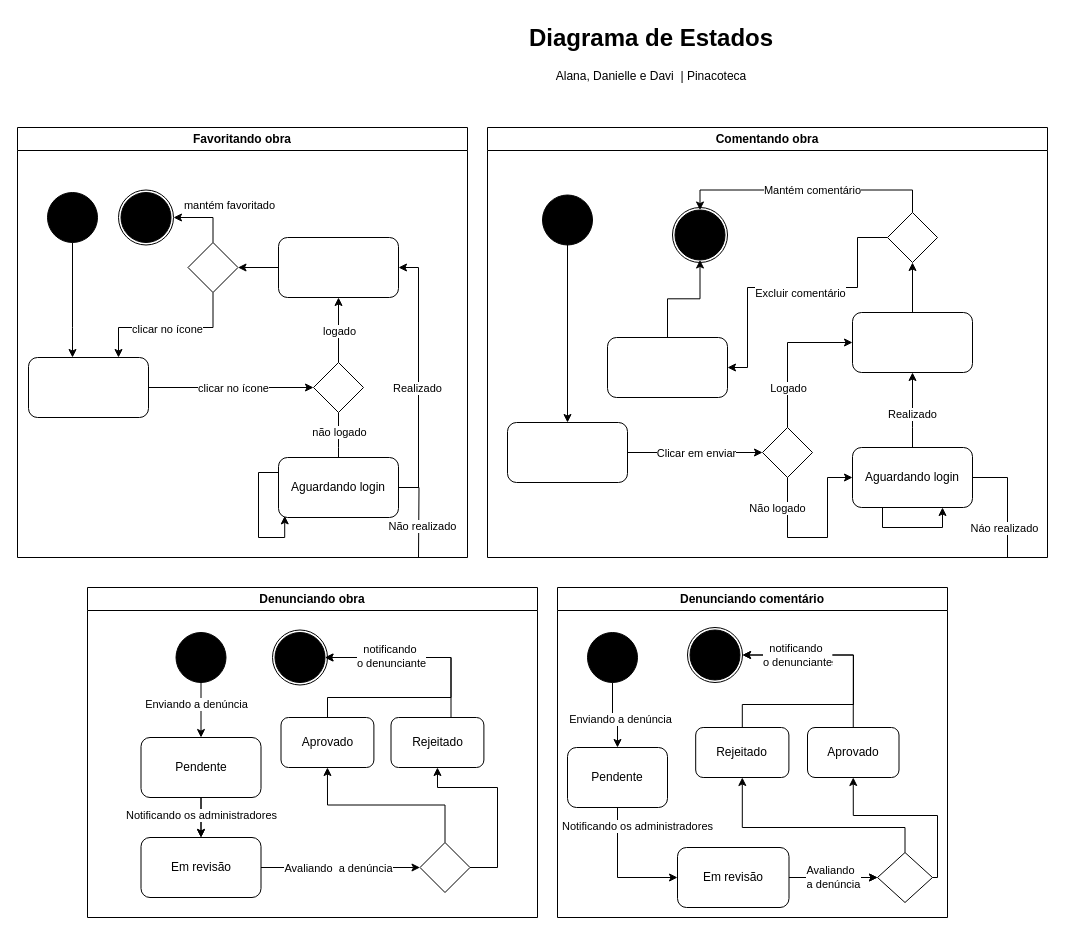
This 1065x935 diagram has some shape labels left out. The shapes that lost their labels are listed below. From the top down, each one's box as (x1, y1, x2, y2) in pixels, then its label:
(278, 236, 398, 298): Favoritado
(852, 312, 972, 372): Comentário publicado
(28, 356, 148, 418): Não favoritado
(606, 336, 728, 398): Comentário excluído
(506, 422, 628, 482): Comentário em edição
